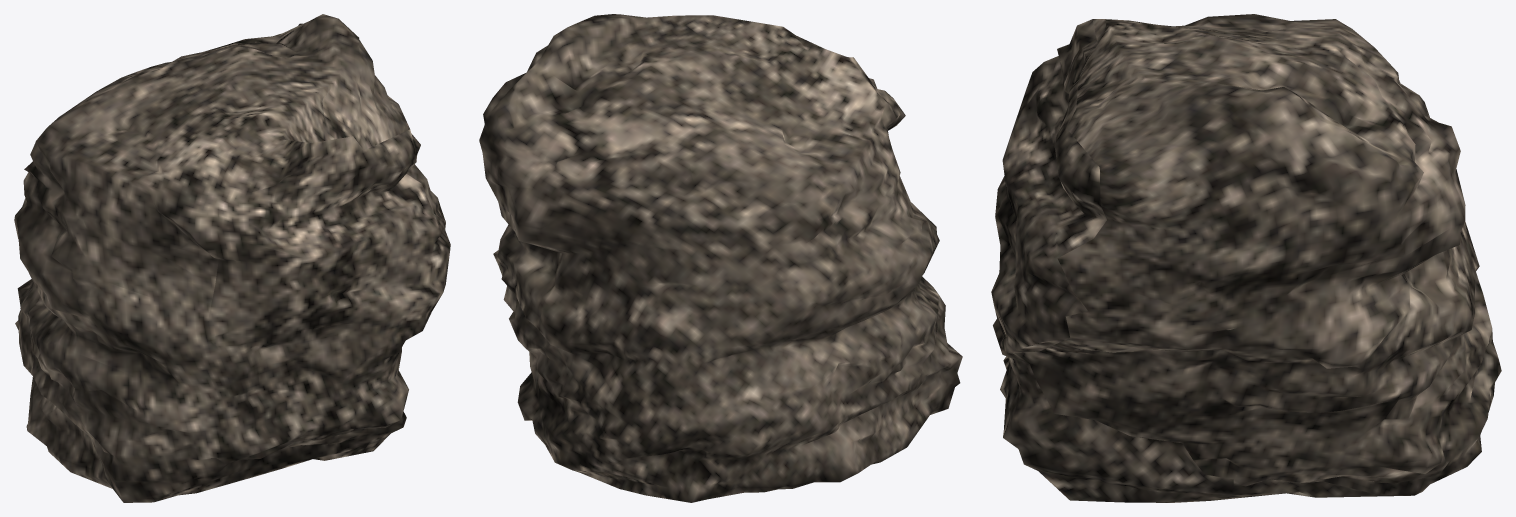
File: SM_ION_CommonRock_01.fbx
3 views of the same model, side by side, from view 1: azimuth 30°, elevation 25°; view 2: azimuth 150°, elevation 25°; view 3: azimuth 270°, elevation 25° (orthographic). The views are drawn at different scales.
Parts seen in each view (by area): view 1: SM_ION_CommonRock_01.mo; view 2: SM_ION_CommonRock_01.mo; view 3: SM_ION_CommonRock_01.mo.
Boxes of the visible parts, left/top/right/bottom form: SM_ION_CommonRock_01.mo: left=14, top=14, right=450, bottom=502; SM_ION_CommonRock_01.mo: left=479, top=14, right=962, bottom=502; SM_ION_CommonRock_01.mo: left=991, top=14, right=1501, bottom=502.
Size of the model in its own units: 307 by 294 by 311.
